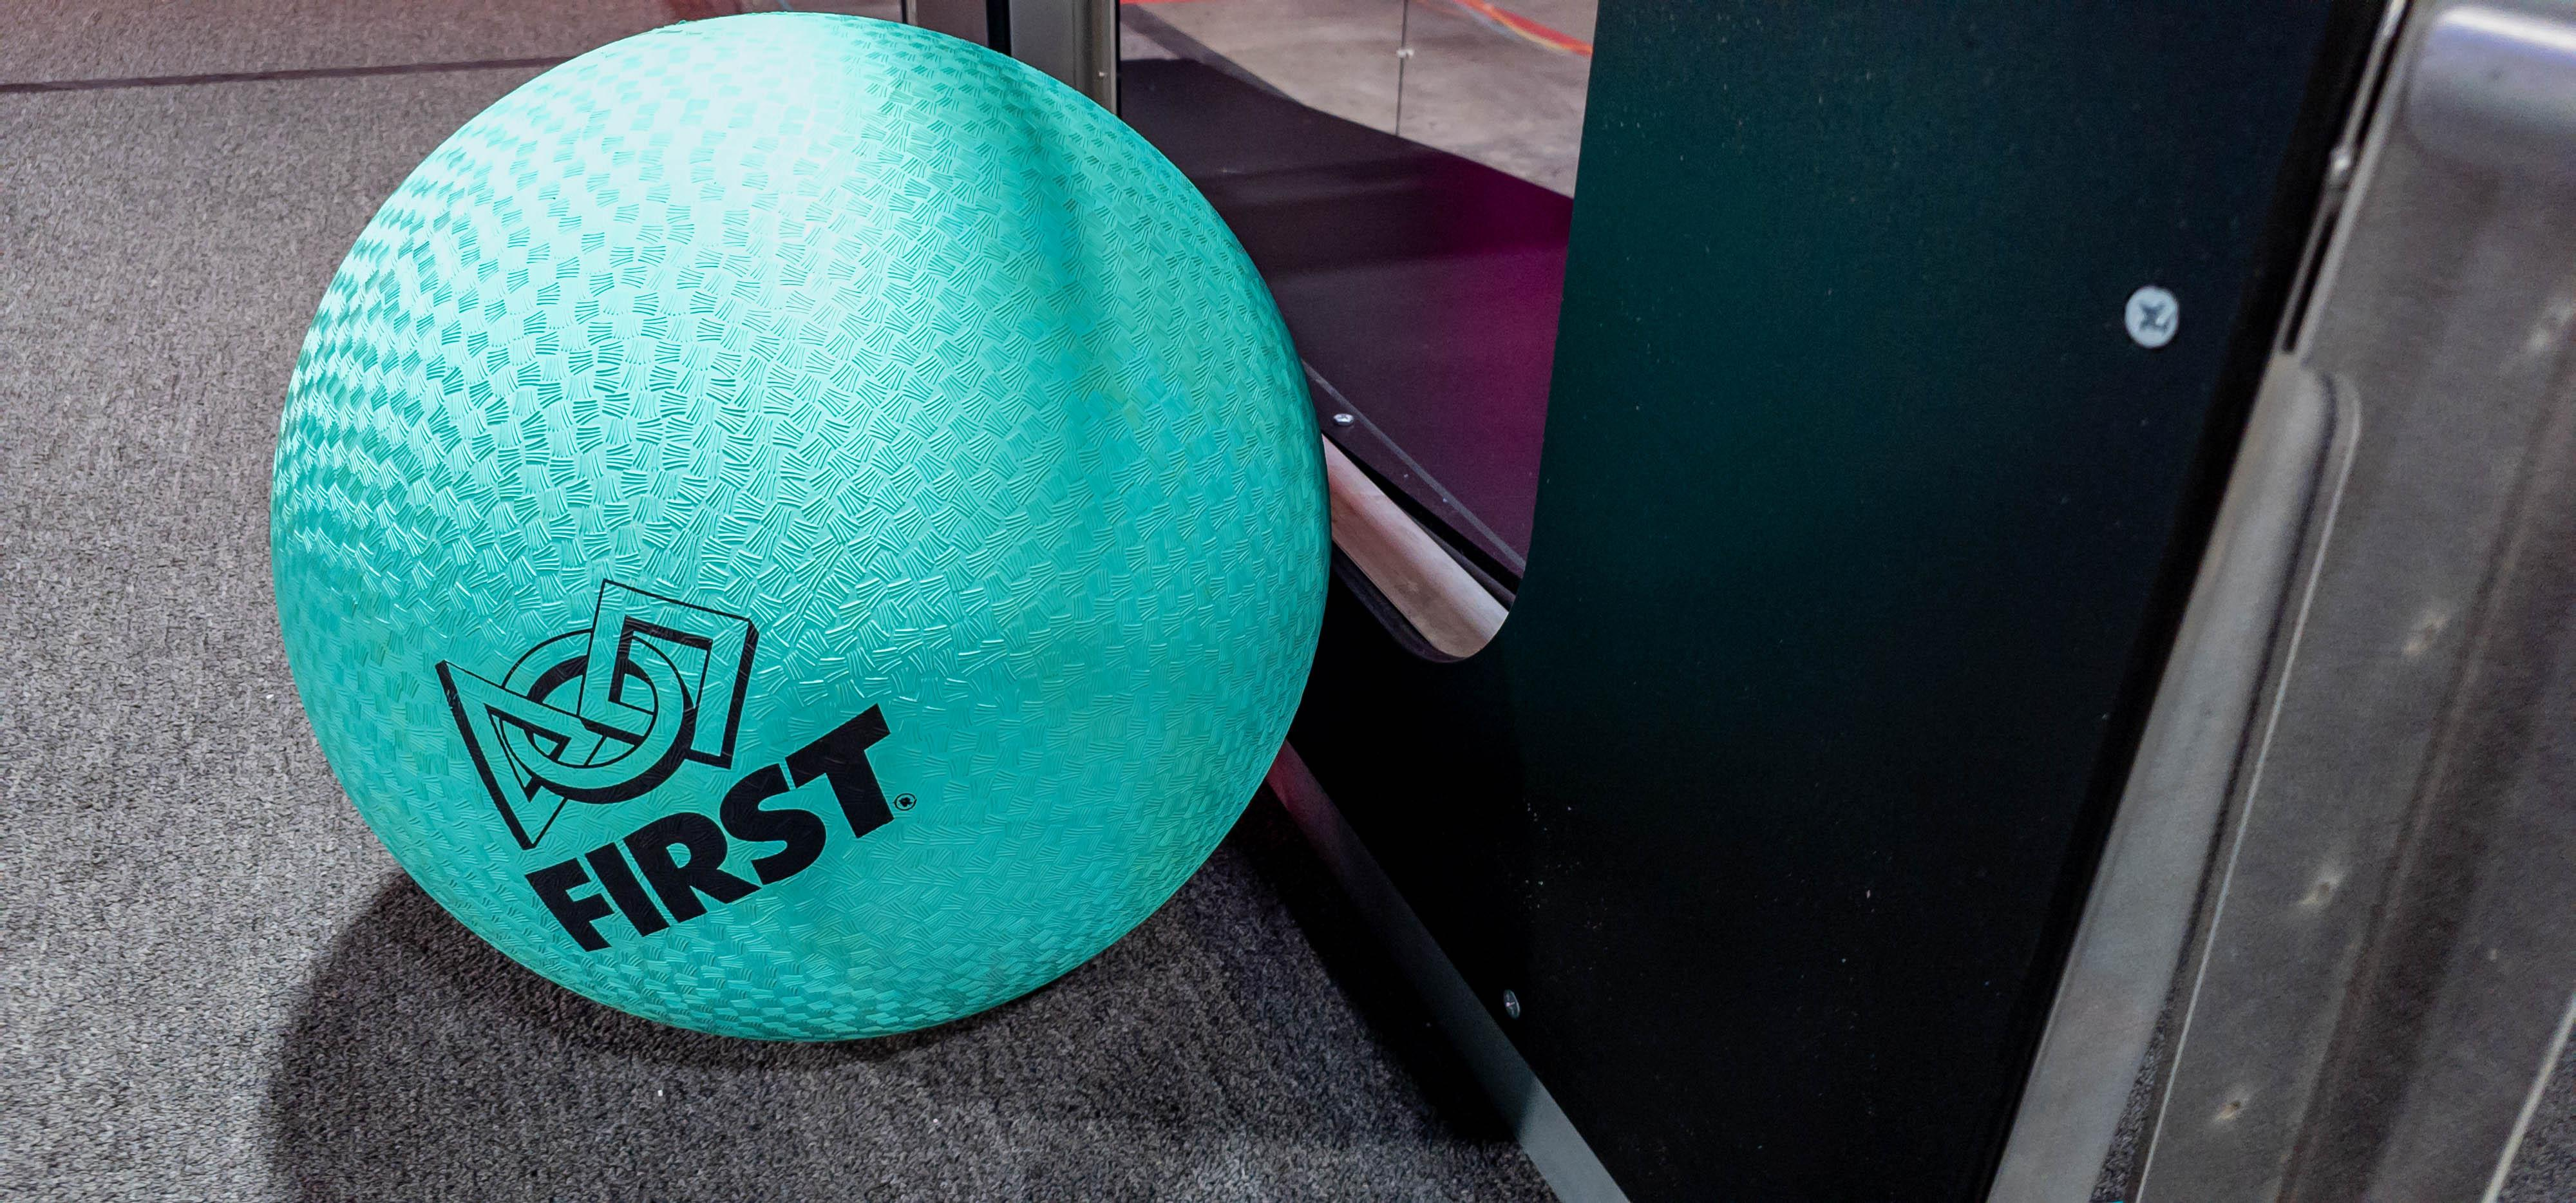ALGAE: (278, 16, 1327, 1044)
